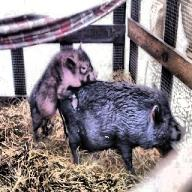boar: (57, 79, 185, 176), (28, 44, 98, 142)
